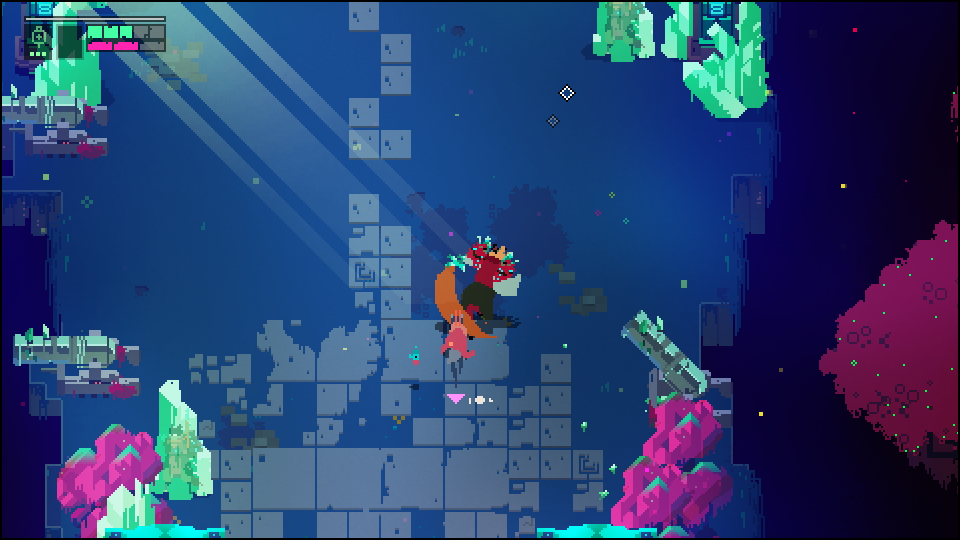hanged_man: (446, 236, 525, 338)
player: (440, 315, 474, 374)
